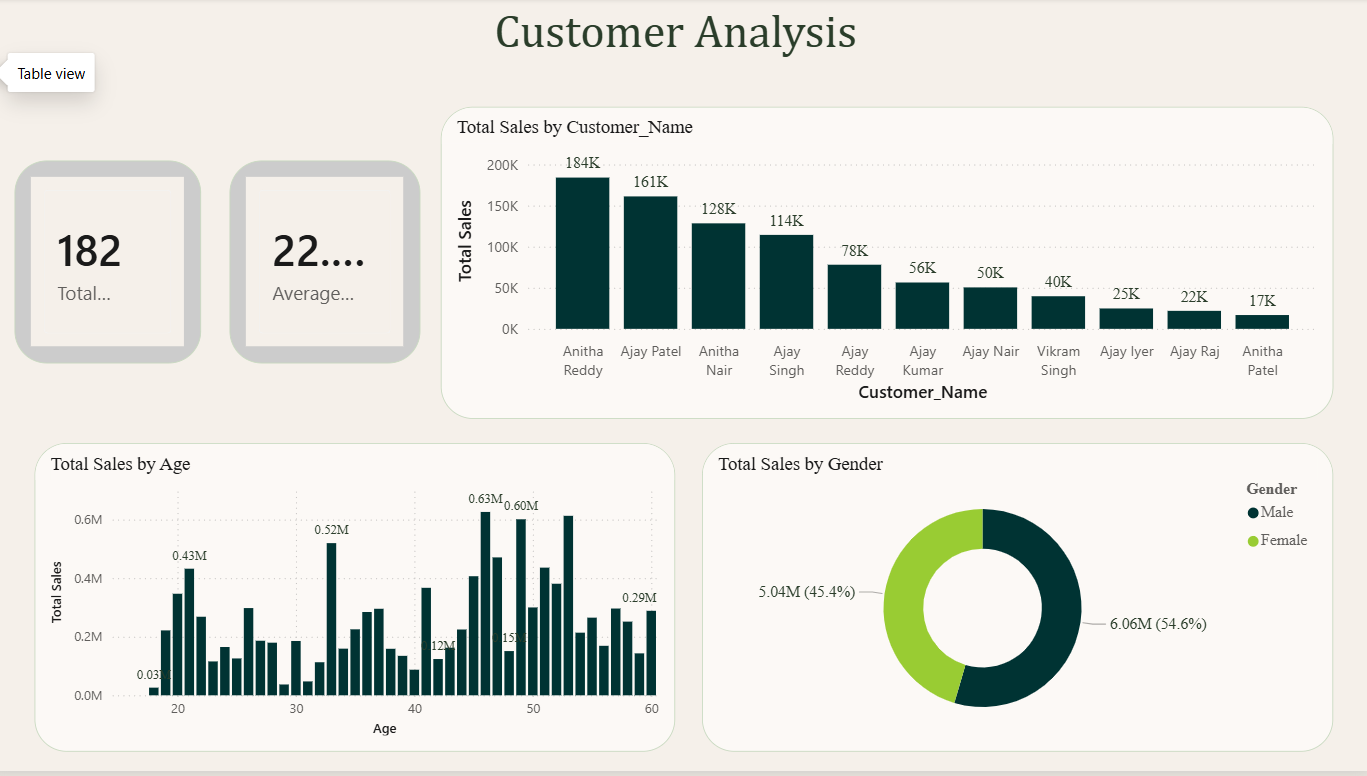

The page's visual inventory and layout, read from the dashboard file:
{"tool":"powerbi","page":{"name":"Customer Analysis","canvas":[1280,720],"ordinal":2},"visuals":[{"type":"textbox","box":[10,0,1251.2,81.2],"z":0},{"type":"donutChart","fields":{"Category":["Sales_Data.Gender"],"Y":["Sales_Data.Total Sales"]},"box":[660,413.8,587.5,287.5],"z":1000},{"type":"columnChart","fields":{"Category":["Sales_Data.Age"],"Y":["Sales_Data.Total Sales"]},"box":[40,413.8,596.2,287.5],"z":2000},{"type":"cardVisual","fields":{"Data":["Sales_Data.Total Customers"]},"box":[21.2,151.2,173.8,188.8],"z":3000},{"type":"cardVisual","fields":{"Data":["Sales_Data.Average Order Value"]},"box":[221.2,151.2,177.5,188.8],"z":4000},{"type":"clusteredColumnChart","fields":{"Y":["Sales_Data.Total Sales"],"Category":["Sales_Data.Customer_Name"]},"box":[417.5,101.2,830,290],"z":5000}]}

Visuals, with their boxes in screenshot pixels (x1, y1, x2, y2), scaled from the page's 1280x720 canvas onto the 1367x776 screenshot:
textbox: pyautogui.locateOnScreen(11, 0, 1347, 88)
donutChart - Sales_Data.Gender x Sales_Data.Total Sales: pyautogui.locateOnScreen(705, 446, 1332, 756)
columnChart - Sales_Data.Age x Sales_Data.Total Sales: pyautogui.locateOnScreen(43, 446, 679, 756)
cardVisual - Sales_Data.Total Customers: pyautogui.locateOnScreen(23, 163, 208, 366)
cardVisual - Sales_Data.Average Order Value: pyautogui.locateOnScreen(236, 163, 426, 366)
clusteredColumnChart - Sales_Data.Total Sales x Sales_Data.Customer_Name: pyautogui.locateOnScreen(446, 109, 1332, 422)
